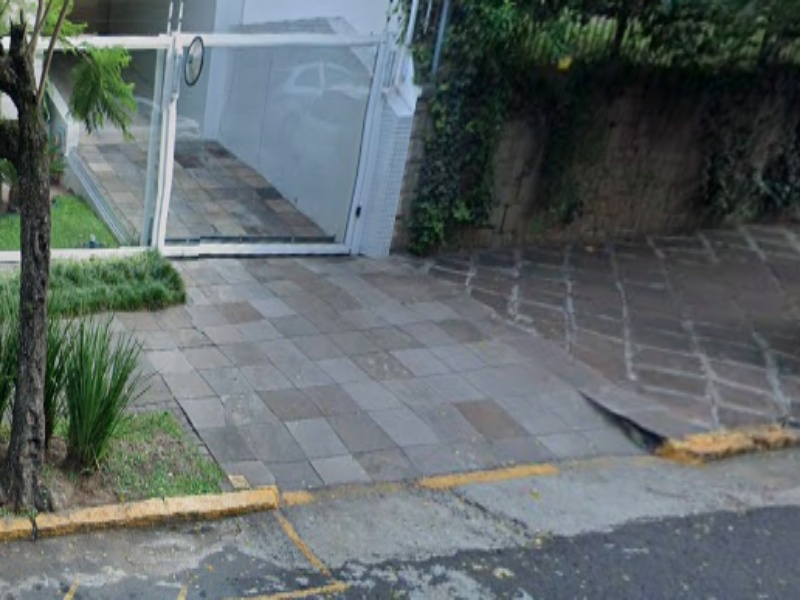g56: (265, 409, 685, 554)
